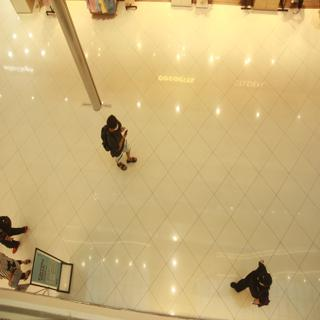person: (231, 252, 281, 309), (98, 105, 136, 179)
